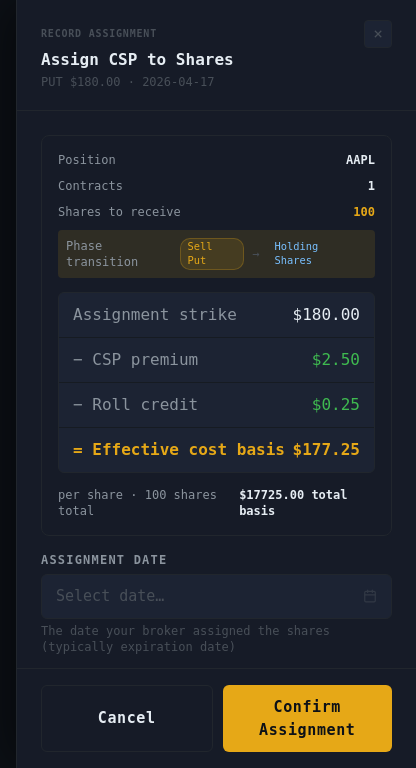
Test case: AssignmentSheet › shows red inline error "Assignment date is required" when submitted with no date
This screenshot has width=416, height=768.
Click the button "Confirm Assignment": point(307, 718) [222,685,392,752]
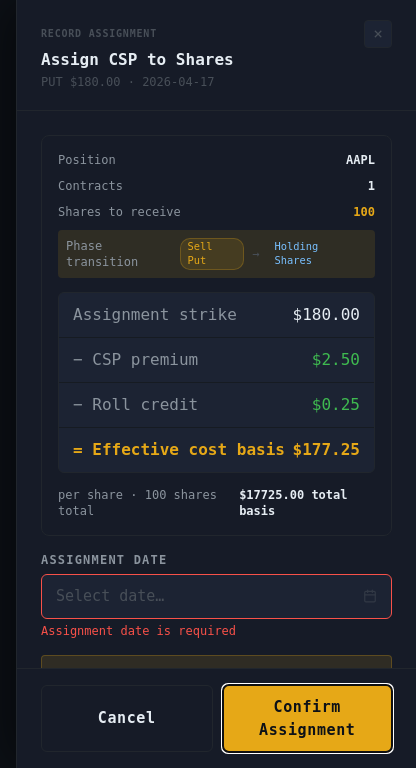
Now the text "Assignment date is required" is shown, box [41,624,236,638]
